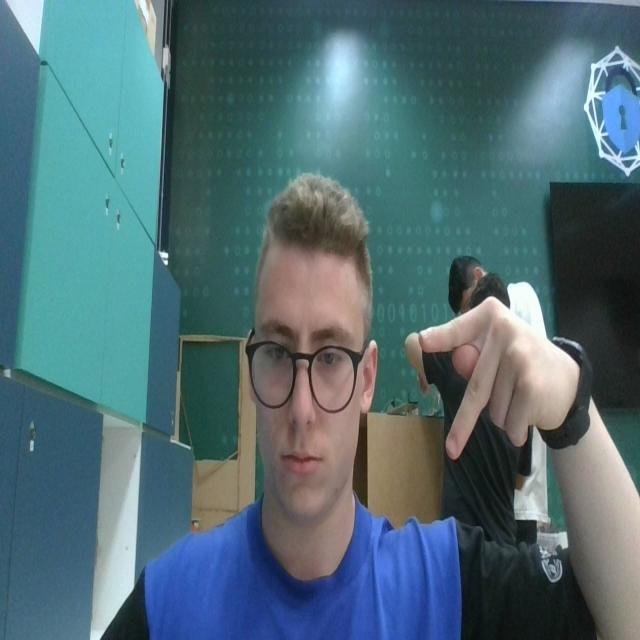P: (412, 292, 561, 466)
